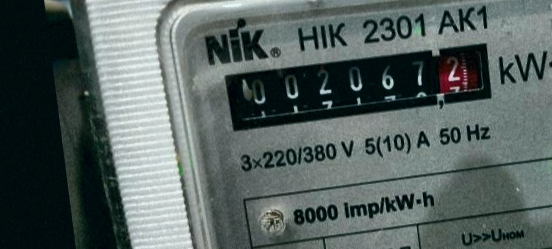0: (247, 74, 269, 105), (343, 60, 365, 90), (281, 68, 301, 99)
2: (442, 50, 463, 81), (314, 64, 334, 94)
6: (376, 58, 398, 89)
7: (409, 54, 429, 86)
screen: (209, 25, 509, 143)
